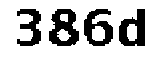3: (11, 8, 43, 50)
6: (81, 6, 115, 51)
8: (44, 8, 80, 52)
d: (121, 9, 150, 48)
